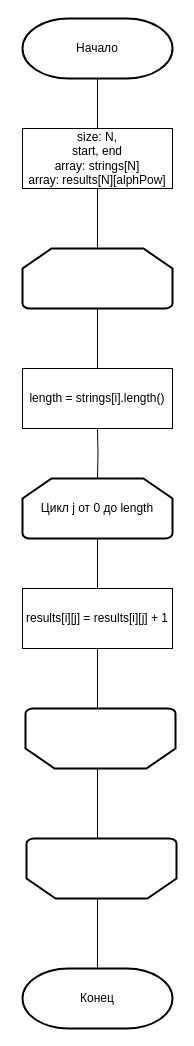
Some shapes in this 194 by 1046 pixel diagram are drawn without their labels. The box of each missing label's shape, as (x1, y1, x2, y2) in pixels:
Увеличить iна 1 Цикл i: (25, 837, 177, 899)
Увеличить j на 1 Цикл j: (24, 707, 176, 769)
Цикл i от start до end: (21, 247, 173, 309)
